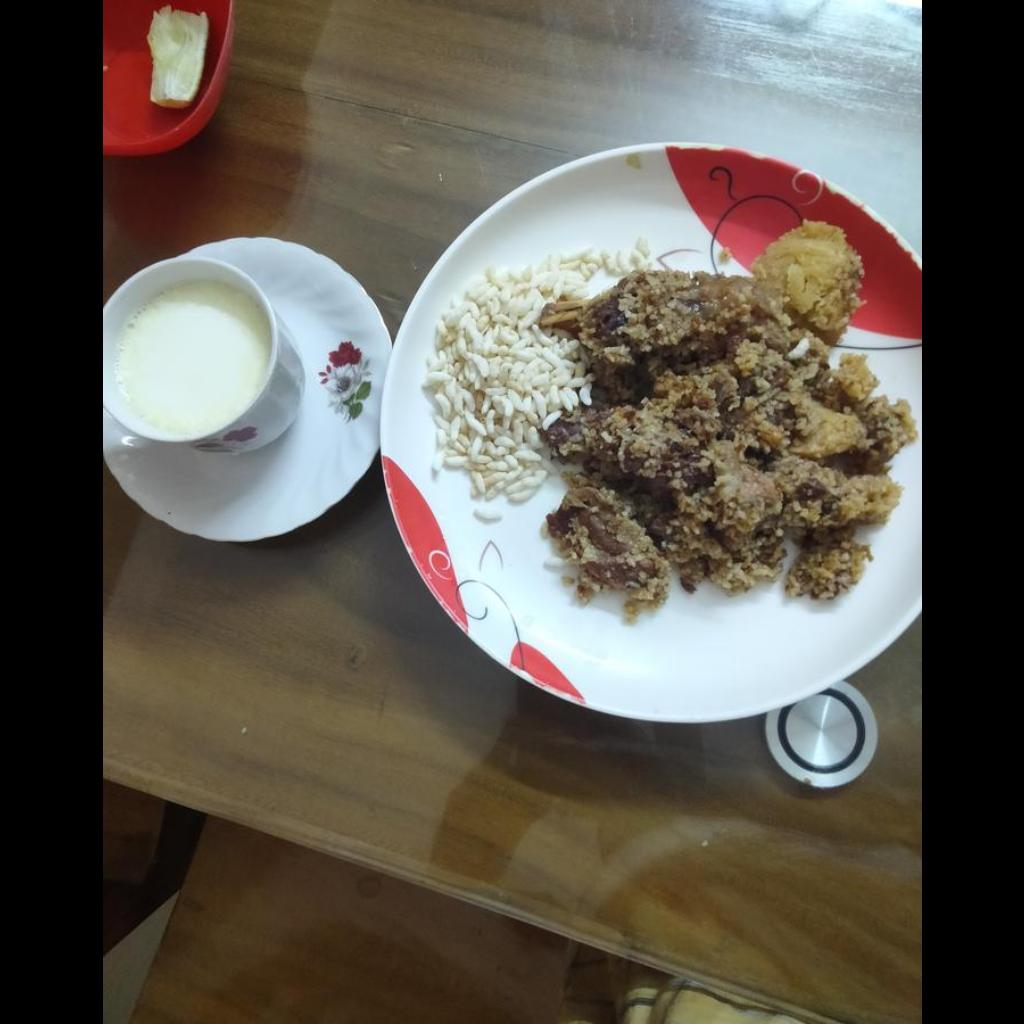beef: (541, 269, 900, 608)
lemon: (148, 6, 206, 107)
milk: (115, 286, 270, 430)
puffed-rice: (421, 235, 654, 520)
